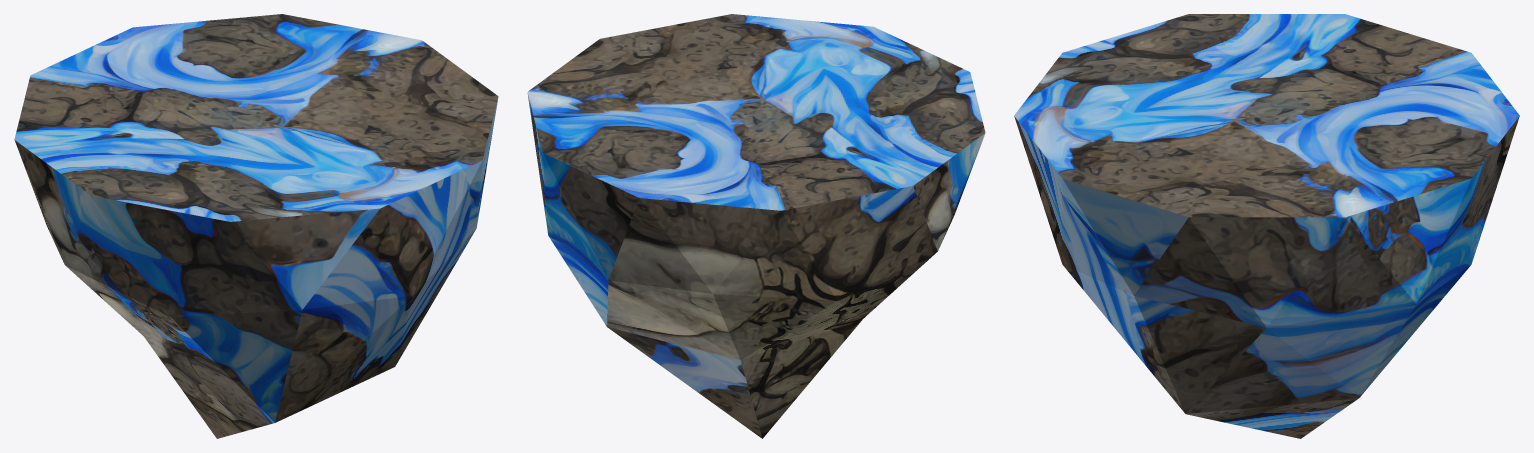
File: water_island2.fbx
The picture shows the model from 3 angles, left to right: view 1: azimuth 30°, elevation 25°; view 2: azimuth 150°, elevation 25°; view 3: azimuth 270°, elevation 25°; orthographic projection. The views are drawn at different scales.
Visible parts, largest first — view 1: Icosphere; view 2: Icosphere; view 3: Icosphere.
Boxes of the visible parts, box(x1,y1,x2,y2) form: Icosphere: box(14, 14, 498, 438); Icosphere: box(527, 14, 985, 438); Icosphere: box(1014, 14, 1519, 438).
Size of the model in its own units: 714 by 548 by 751.
1 material, 1 textured.
